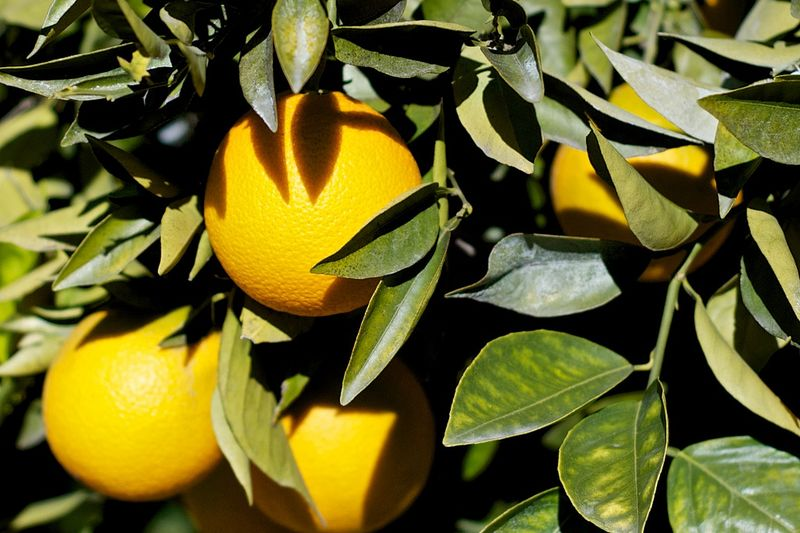portakal: (502, 46, 782, 337), (183, 64, 479, 335)
